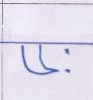anusvara: (64, 49, 69, 56)
